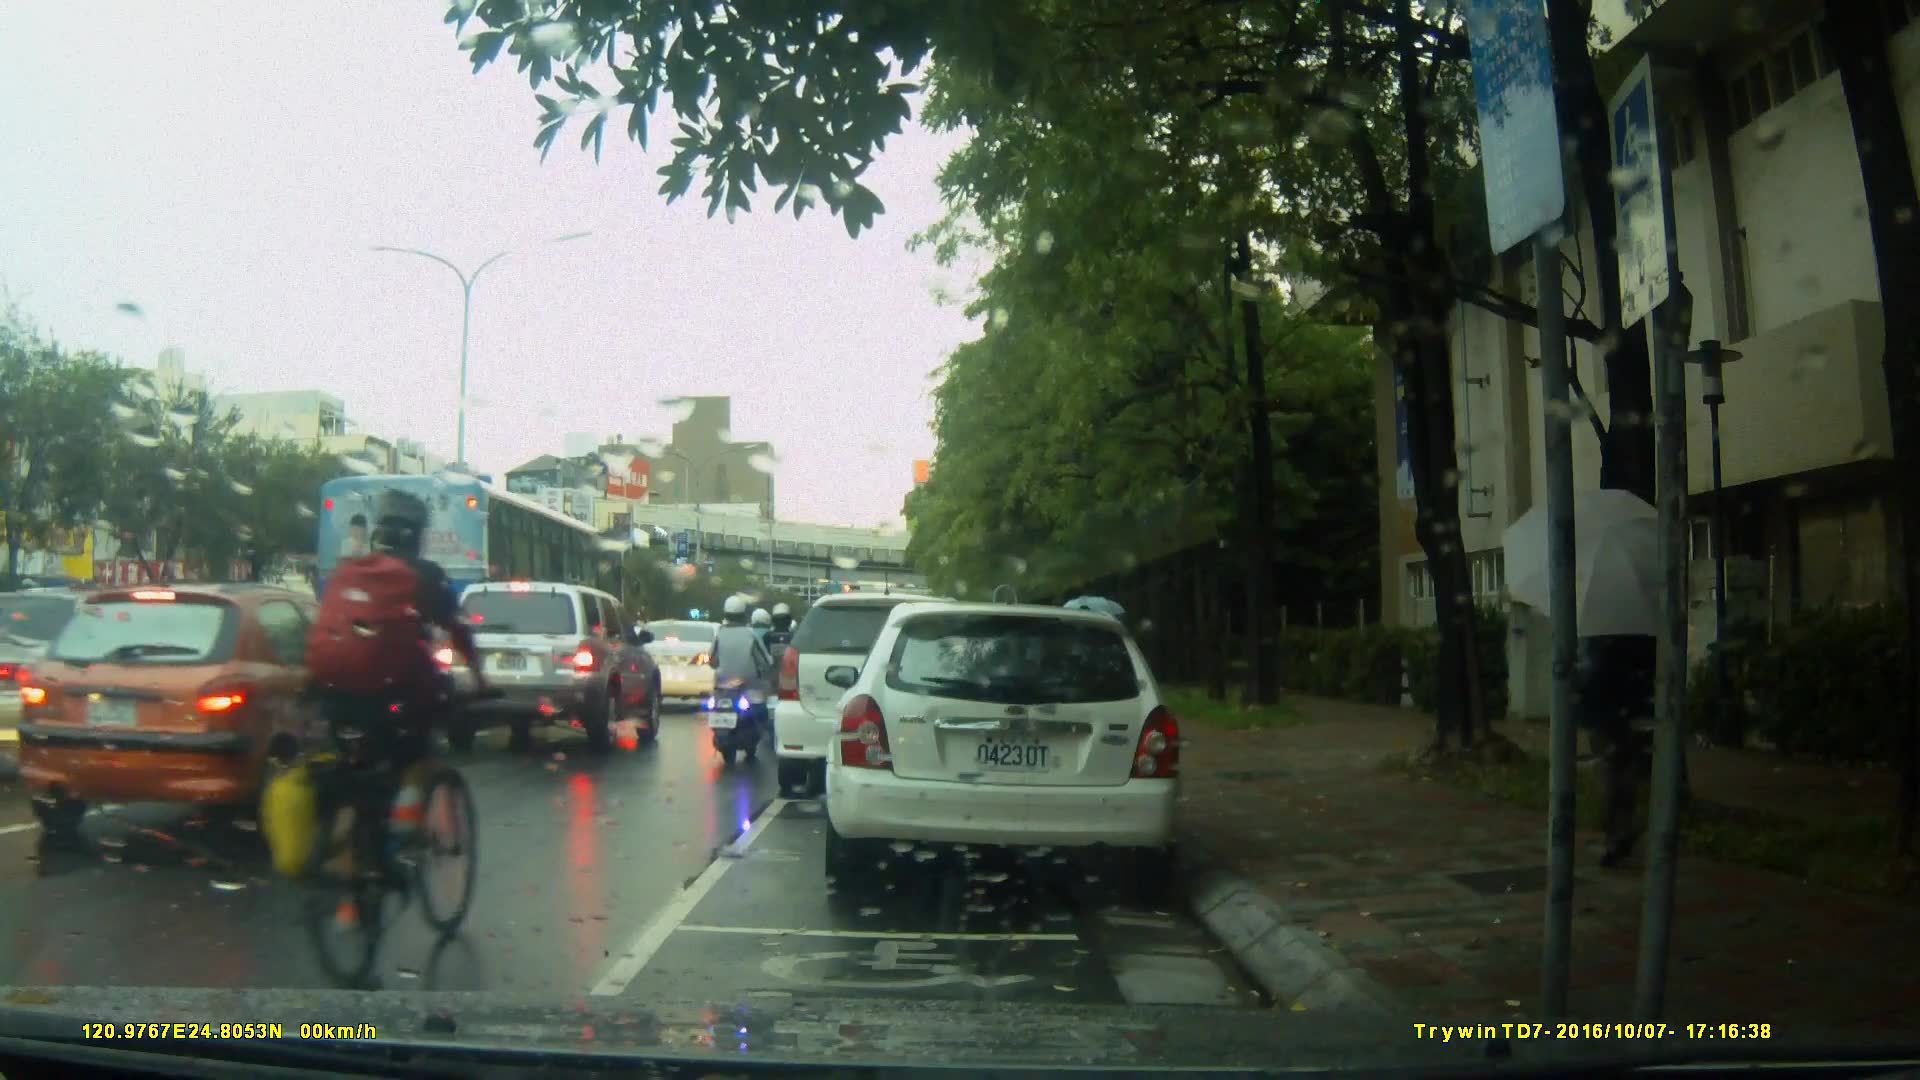pedestrian: (1573, 525, 1705, 881)
rider: (243, 485, 488, 980), (704, 592, 772, 767), (757, 605, 814, 744), (740, 604, 785, 719)
vehicle: (835, 594, 1194, 898), (26, 584, 418, 860), (316, 474, 625, 738), (776, 590, 1026, 784), (427, 579, 665, 752)
